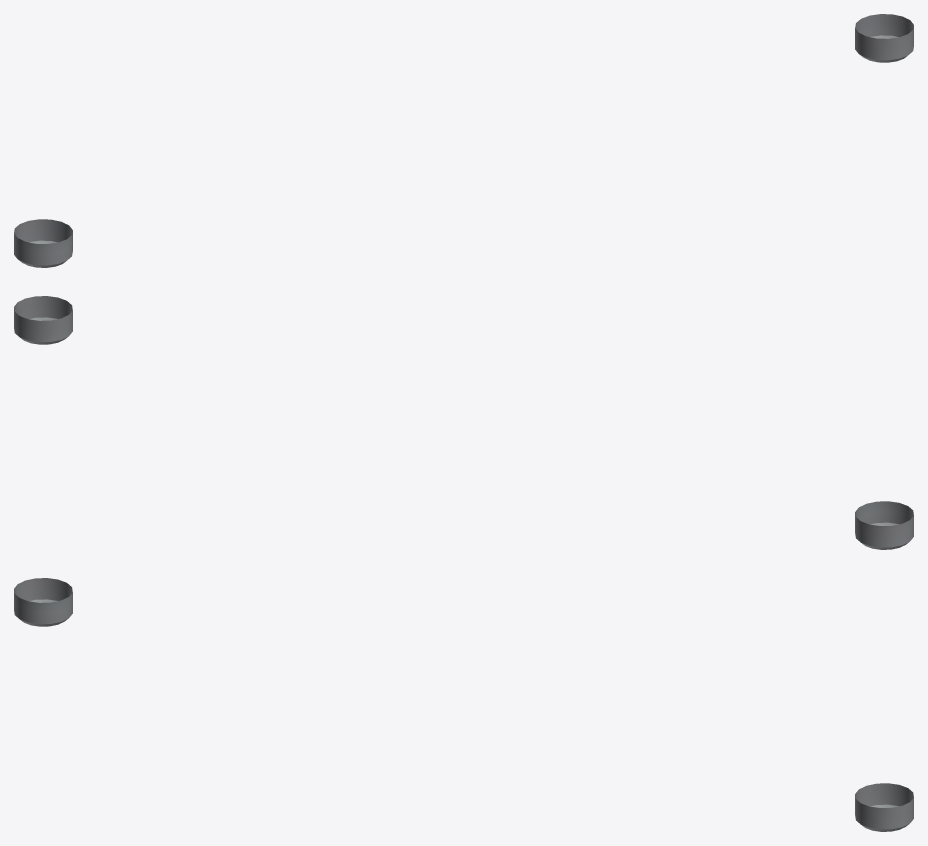
File: hanger_top.gltf
The picture shows the model from 3 angles, top to bottom: view 1: azimuth 30°, elevation 25°; view 2: azimuth 150°, elevation 25°; view 3: azimuth 330°, elevation 25°; orthographic projection.
Visible parts, largest first — view 1: hanger_top; view 2: hanger_top; view 3: hanger_top.
Boxes of the visible parts, bbox=[...] form: hanger_top: bbox=[14, 14, 913, 267]; hanger_top: bbox=[14, 296, 913, 549]; hanger_top: bbox=[14, 578, 913, 831].
Bounding box in the file's own units: 0.9603 × 0.0267 × 0.0553.
1 material, 1 textured.
